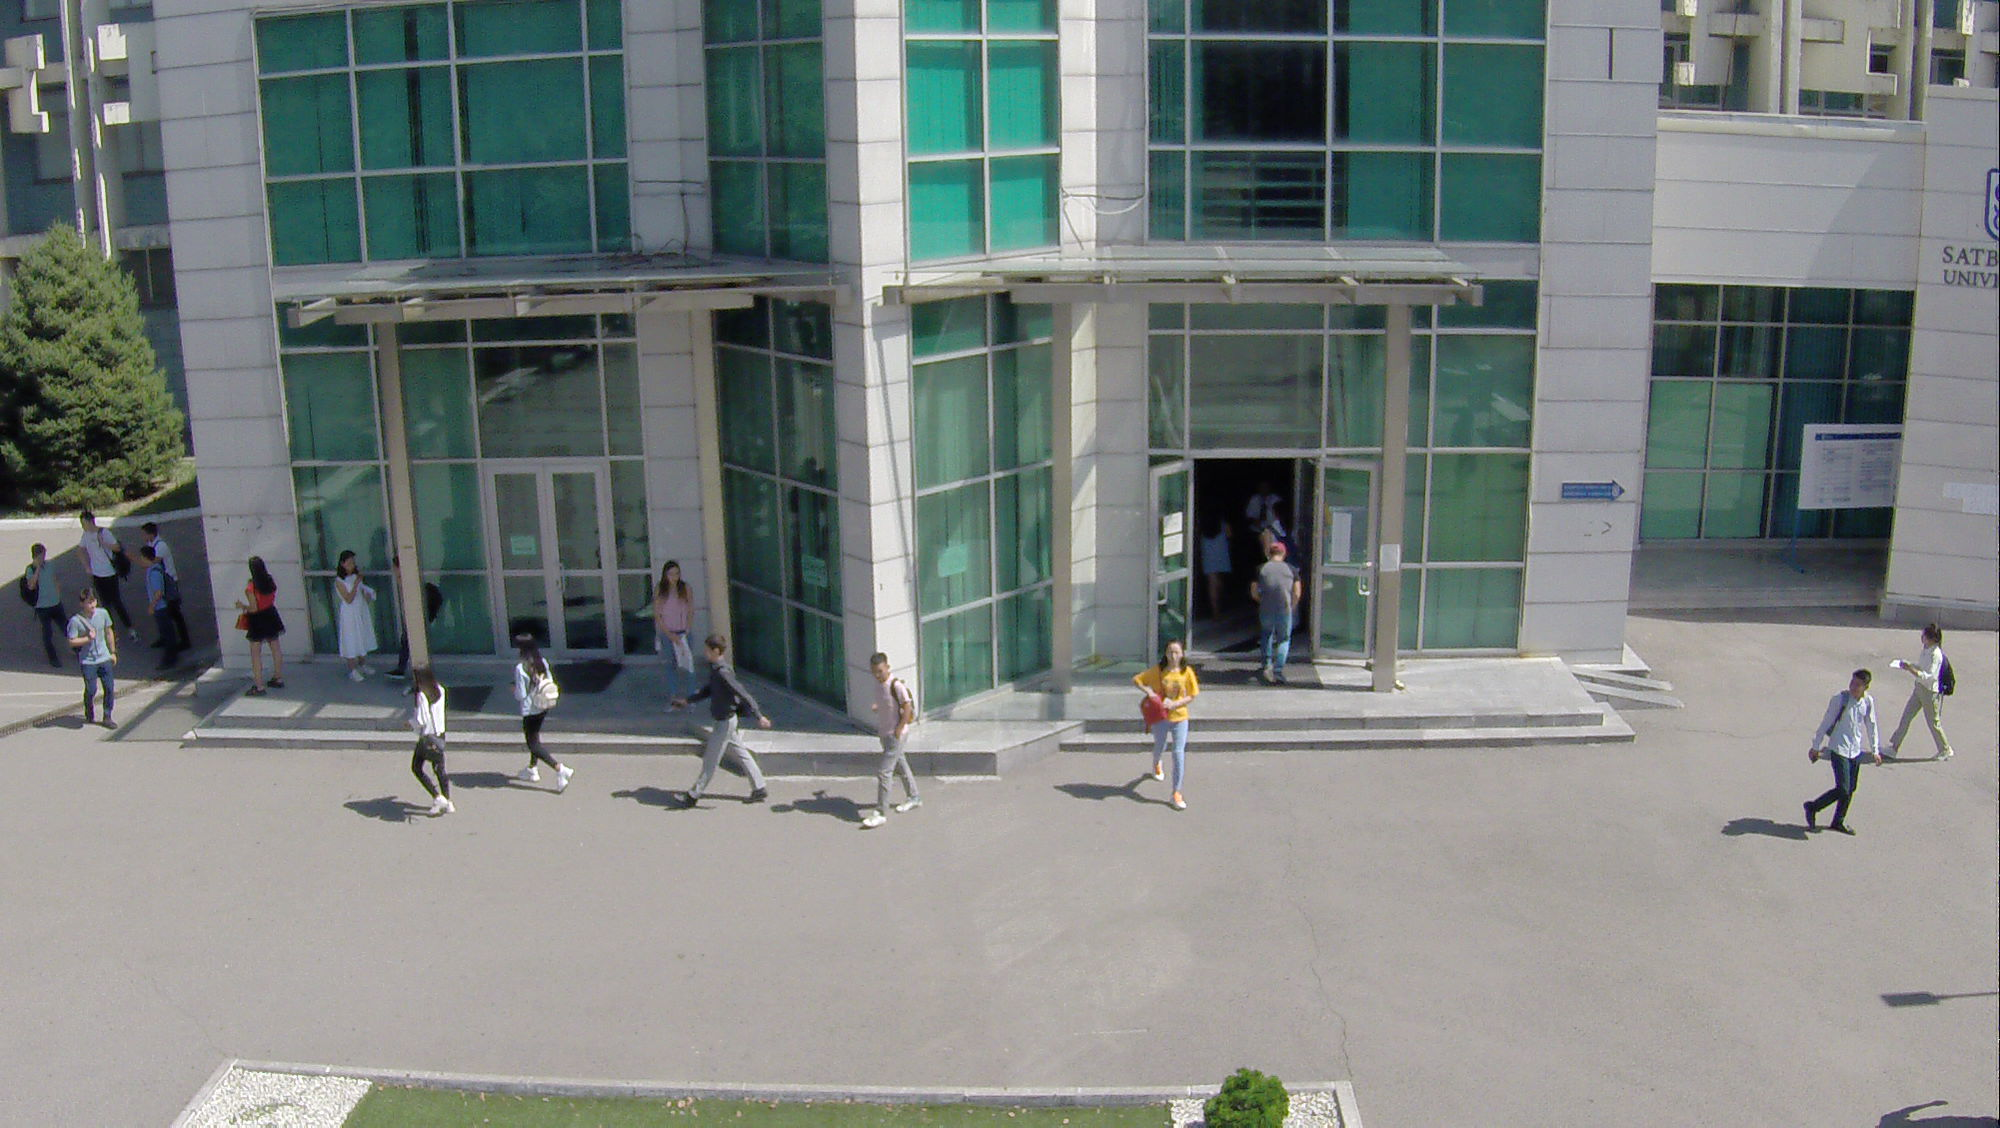person: (675, 628, 770, 808), (845, 645, 934, 836), (1794, 667, 1884, 843), (497, 629, 578, 799), (1134, 637, 1199, 822), (1885, 622, 1962, 768), (1245, 537, 1306, 695), (66, 585, 127, 735), (404, 659, 459, 818), (651, 559, 704, 716), (236, 555, 291, 697), (17, 537, 68, 664), (330, 549, 379, 677), (139, 546, 187, 667), (89, 520, 125, 591), (139, 518, 175, 568)
